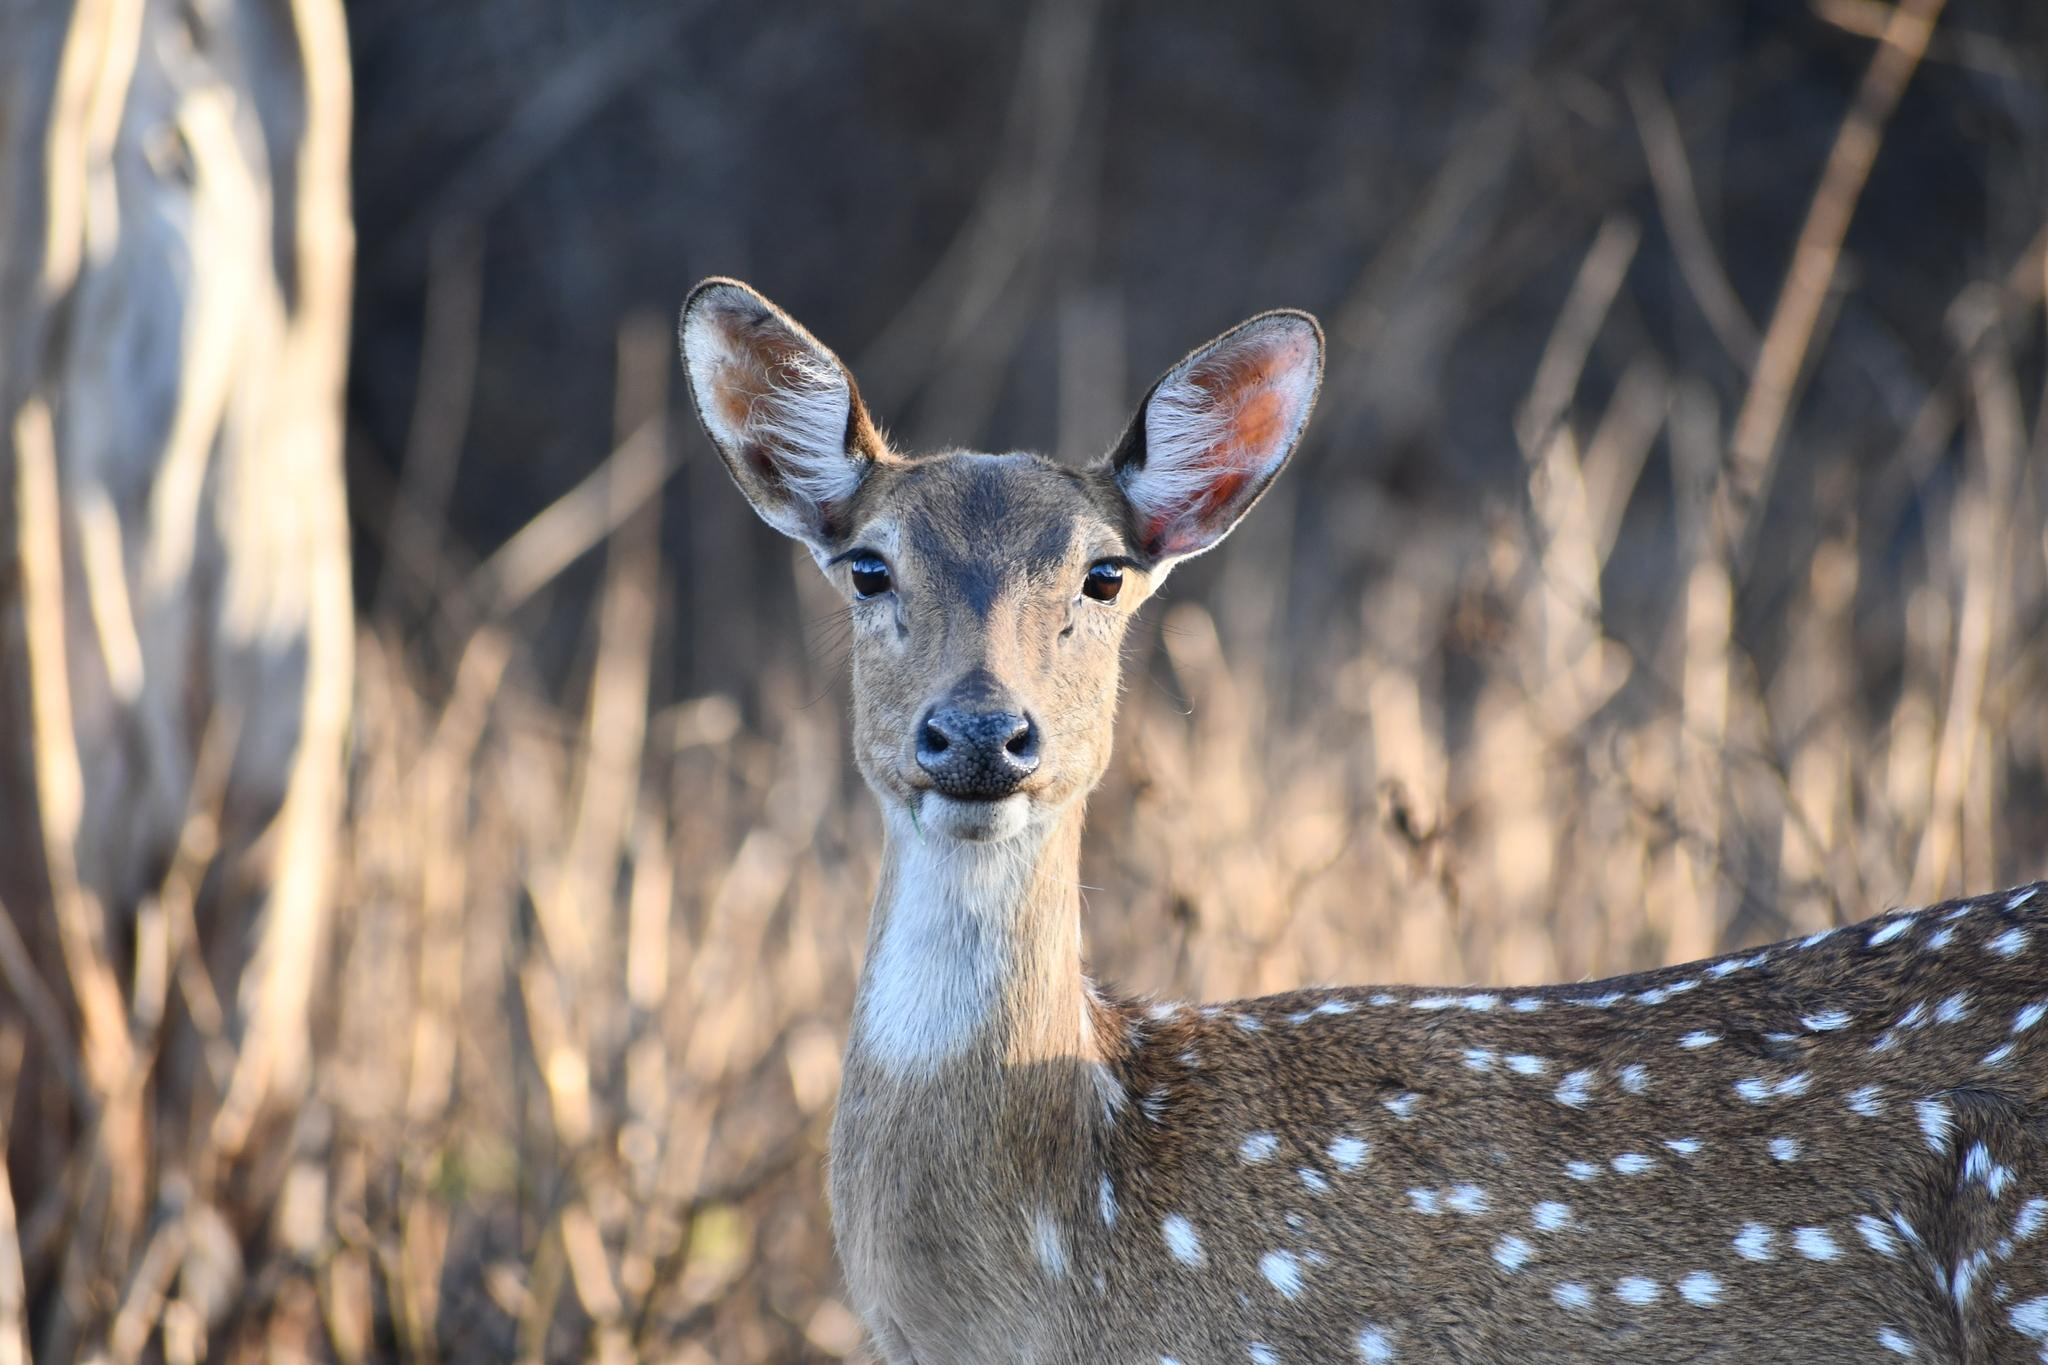Deer: (681, 277, 2046, 1363)
